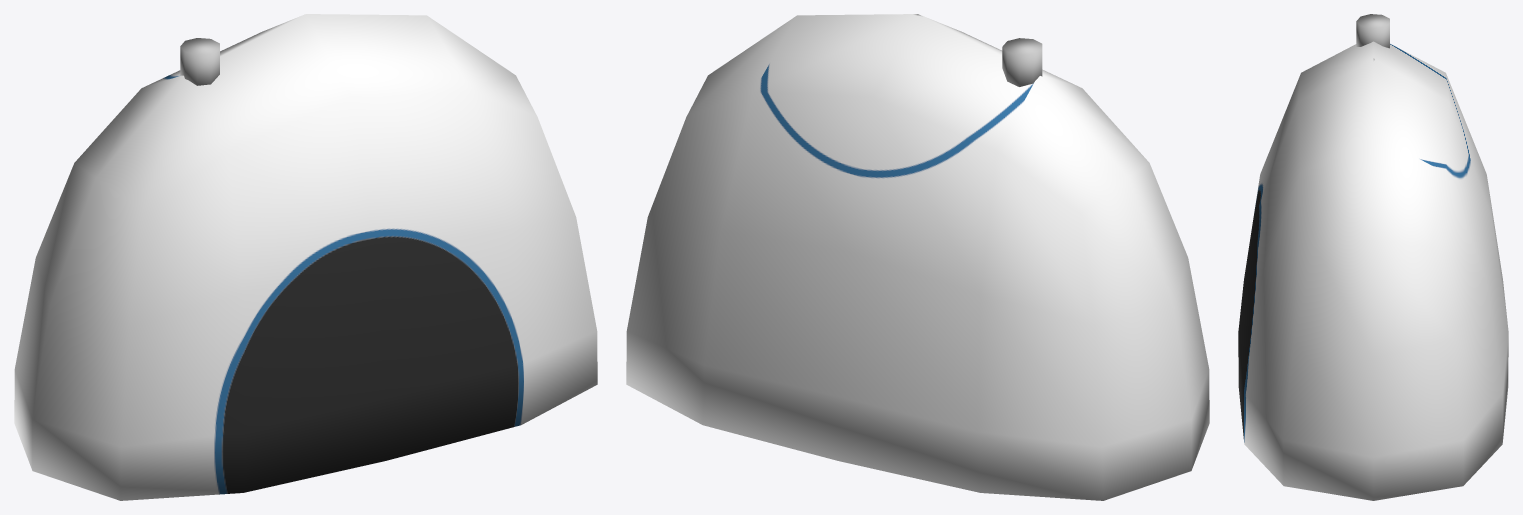
File: radio.fbx
3 views of the same model, side by side, from view 1: azimuth 30°, elevation 25°; view 2: azimuth 150°, elevation 25°; view 3: azimuth 270°, elevation 25° (orthographic). The views are drawn at different scales.
Parts seen in each view (by area): view 1: radio, Cylinder; view 2: radio, Cylinder; view 3: radio, Cylinder.
Boxes of the visible parts, x1,y1,x2,y2 form: radio: [14, 14, 597, 500]; Cylinder: [180, 38, 219, 85]; radio: [626, 14, 1209, 500]; Cylinder: [1002, 38, 1042, 86]; radio: [1238, 41, 1508, 500]; Cylinder: [1356, 14, 1389, 48].
Bounding box in the file's own units: 187 × 132 × 94.91.
